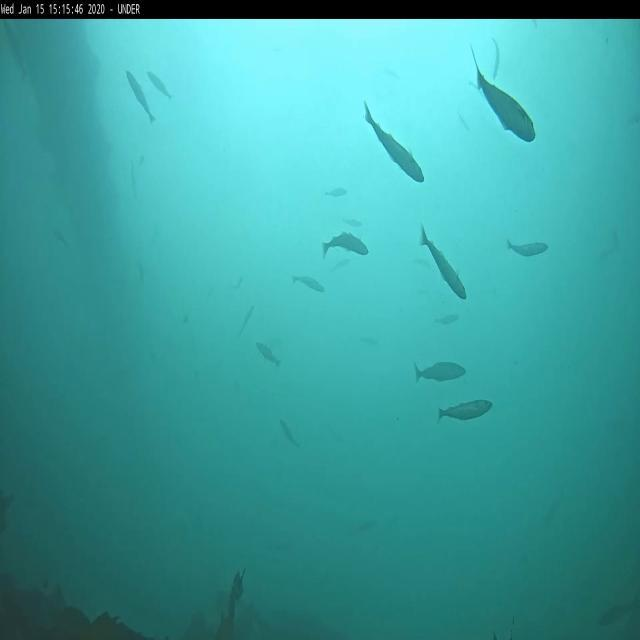fish: (467, 46, 537, 141), (363, 101, 424, 184), (420, 226, 468, 301), (126, 70, 154, 124), (7, 22, 30, 84), (436, 397, 492, 422), (413, 361, 466, 387), (598, 592, 638, 625), (323, 231, 369, 259), (507, 239, 549, 258), (257, 340, 282, 370), (147, 70, 171, 99), (292, 272, 324, 292), (280, 415, 298, 447), (240, 305, 253, 334), (434, 314, 461, 326), (491, 38, 498, 80), (326, 188, 348, 198)
